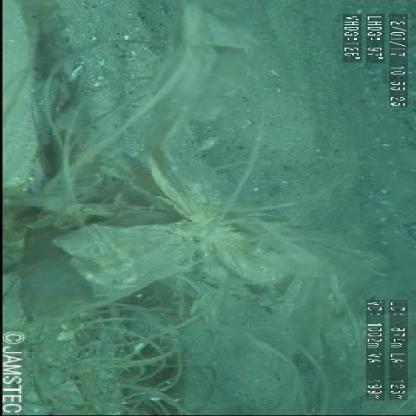Rác: (36, 44, 312, 415)
